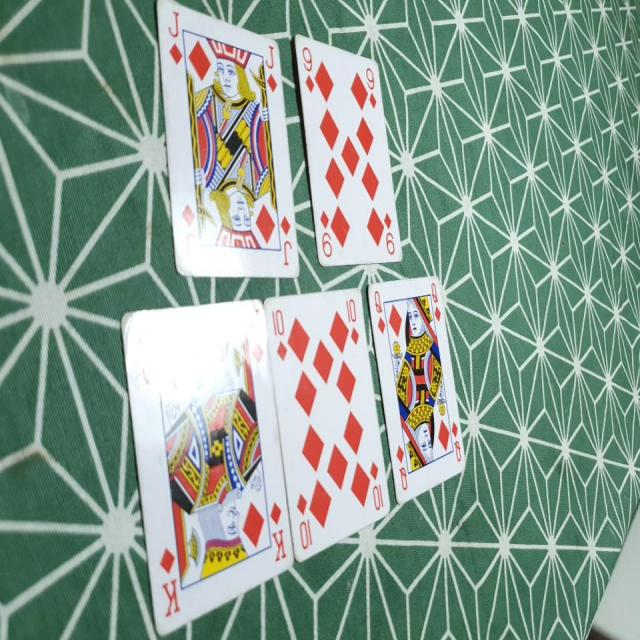10 Diamonds: (263, 285, 391, 560)
9 Diamonds: (291, 29, 404, 266)
J Diamonds: (152, 1, 300, 281)
K Diamonds: (120, 296, 296, 636)
Q Diamonds: (364, 269, 468, 506)
